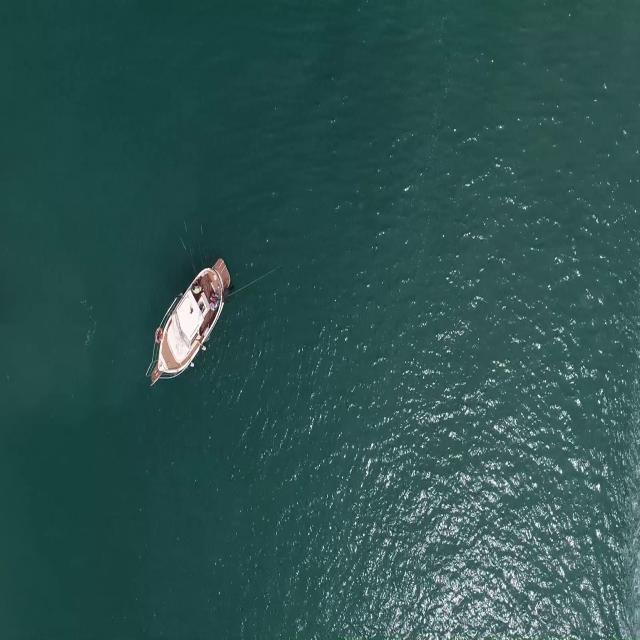boat: (145, 258, 231, 380)
life_buoy: (154, 321, 164, 345)
person: (190, 281, 207, 294), (208, 299, 219, 315)
